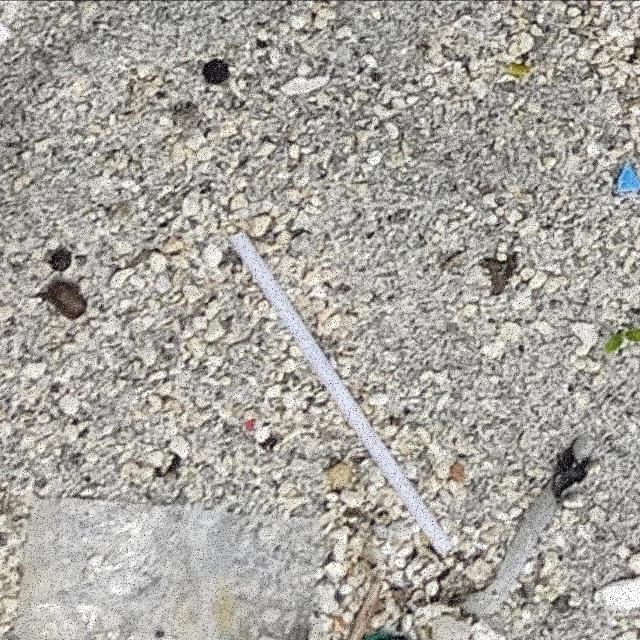plastic_waste: (228, 228, 454, 552)
